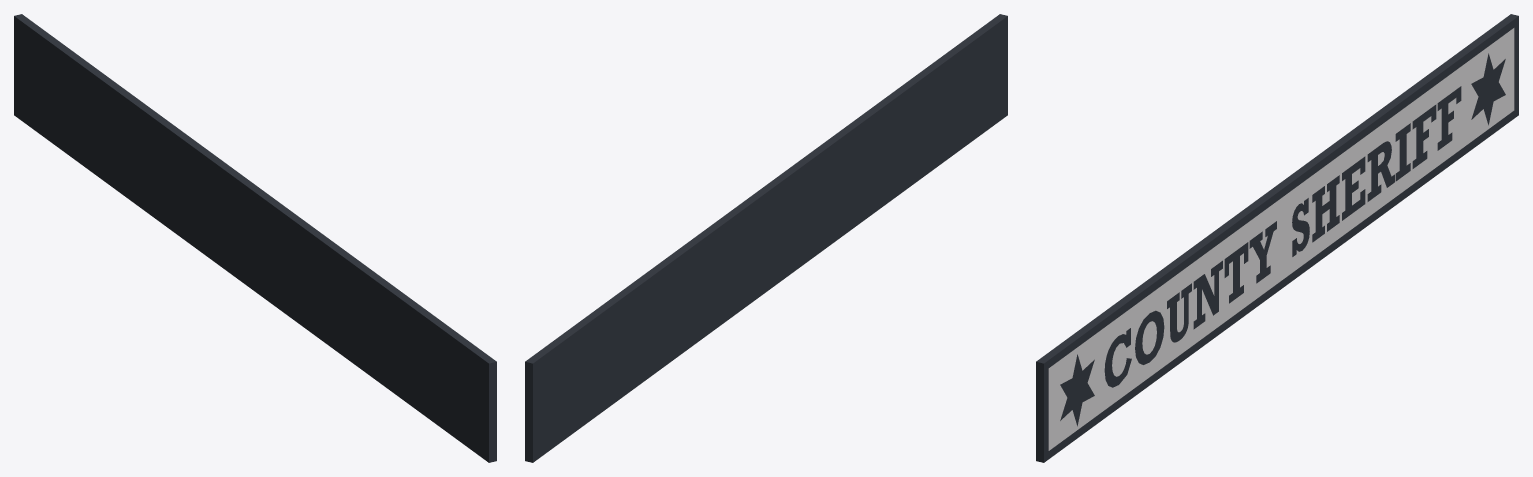
File: SM_billboard_countySheriff.gltf
3 renders of one model, left to right at view 1: azimuth 30°, elevation 25°; view 2: azimuth 150°, elevation 25°; view 3: azimuth 330°, elevation 25°, orthographic.
Visible parts, largest first — view 1: SM_billboard_countySheriff; view 2: SM_billboard_countySheriff; view 3: SM_billboard_countySheriff.
Part boxes in pixels (x1,y1,x2,y2): SM_billboard_countySheriff: (14,14,496,462); SM_billboard_countySheriff: (525,14,1007,462); SM_billboard_countySheriff: (1036,14,1518,462).
Size of the model in its own units: 0.1203 by 1.2 by 10.4.
Materials: 1 (1 with a texture image).
